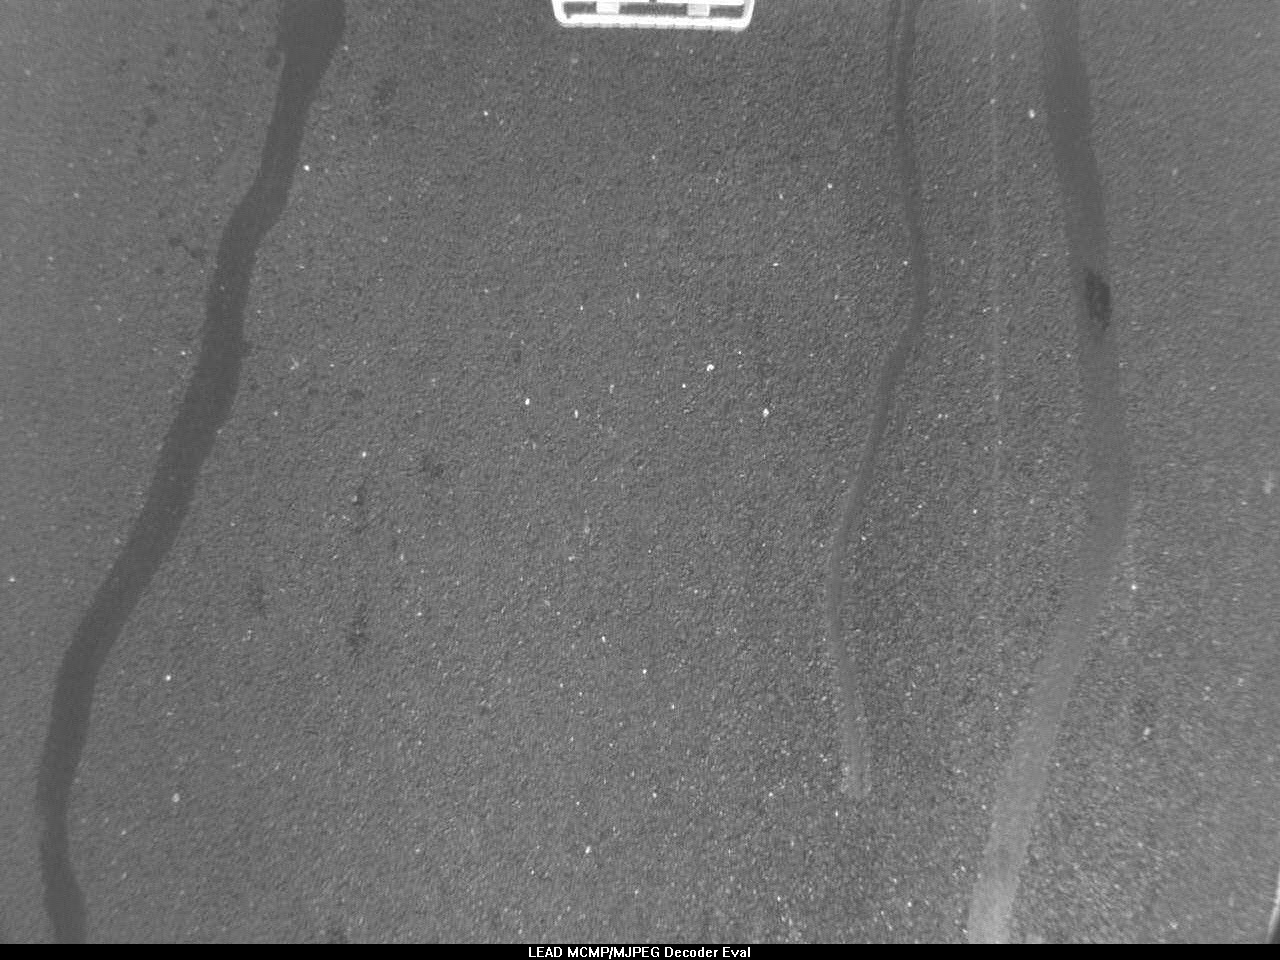sealed: (37, 1, 346, 941), (961, 1, 1130, 944)
